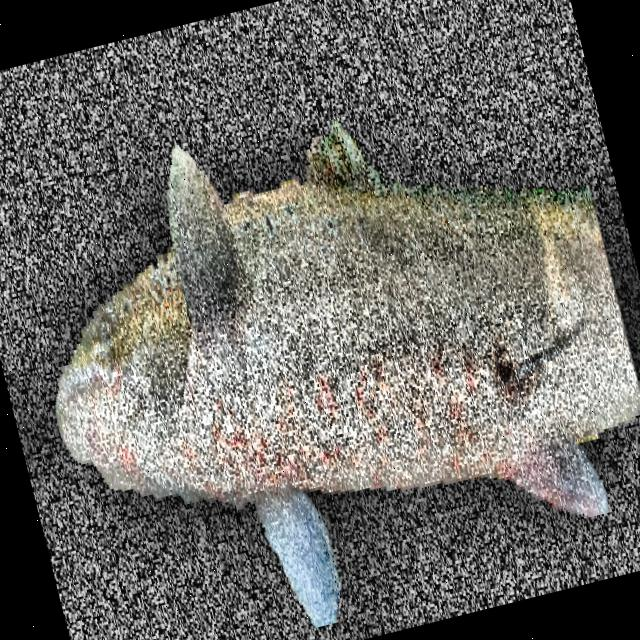mild_red: (99, 348, 605, 513), (107, 373, 121, 396)
